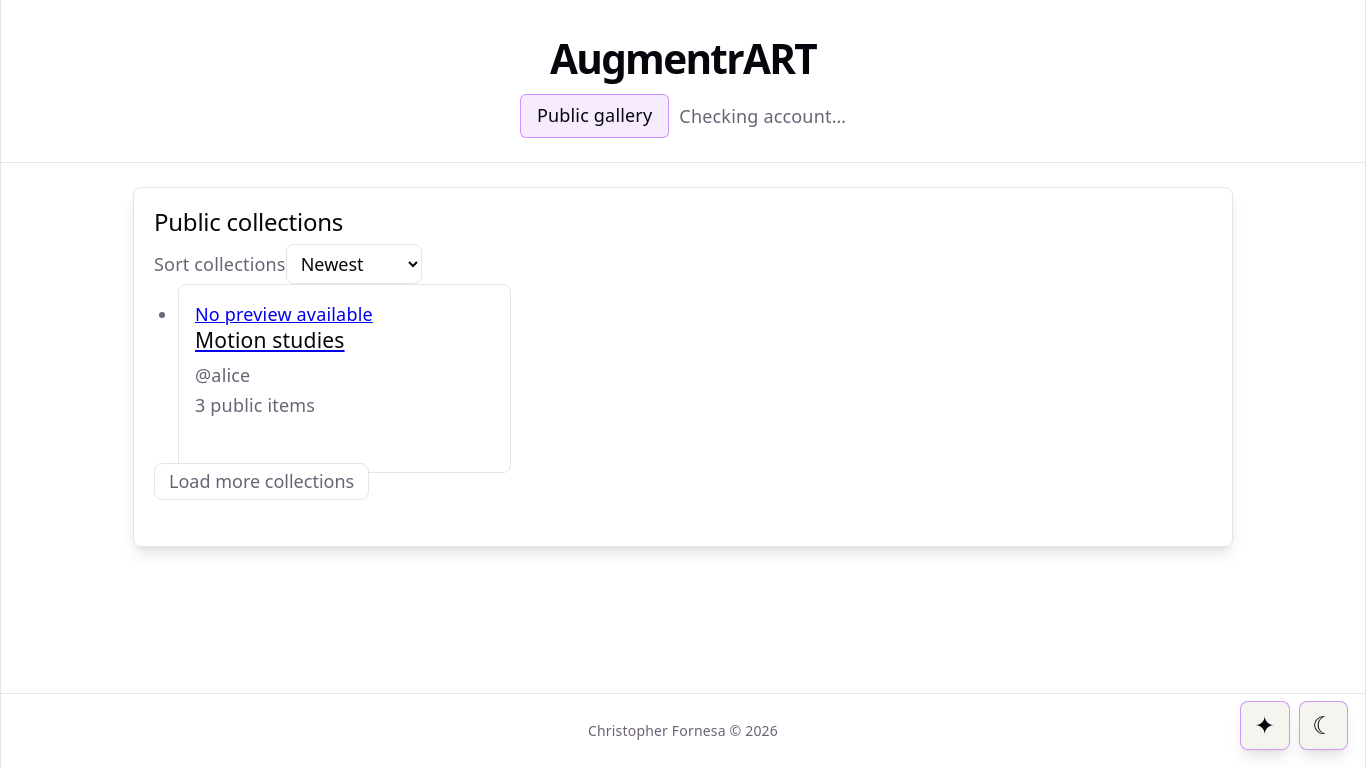
Test case: PublicCollections › uses the response cursor when loading the next page
expect the heading "Motion studies" is shown: met, box [195,325,345,354]
What coordinates should you click on to do the following:
click the button "Load more collections"
I would click on:
 (262, 481)
Its box is [154,463,369,500].
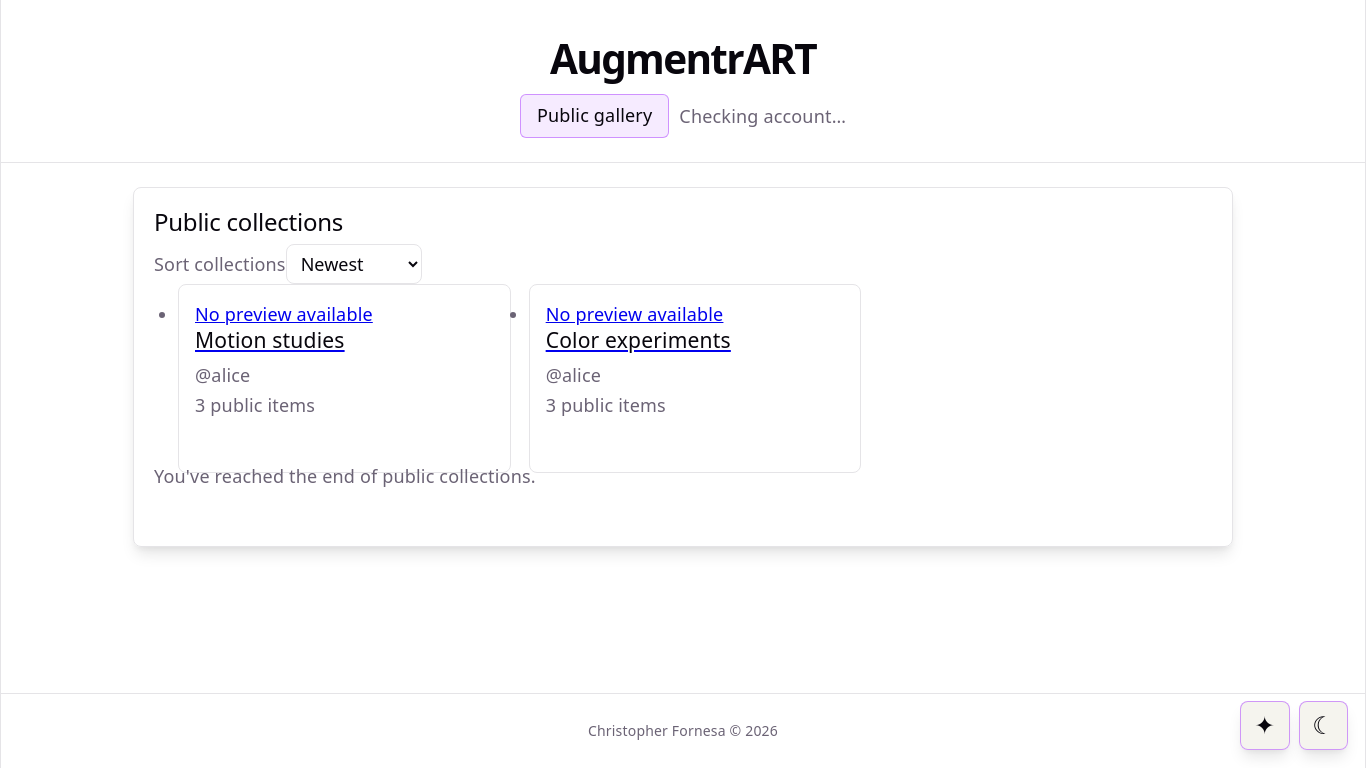
expect the heading "Color experiments" is shown: met, box [546,325,731,354]
